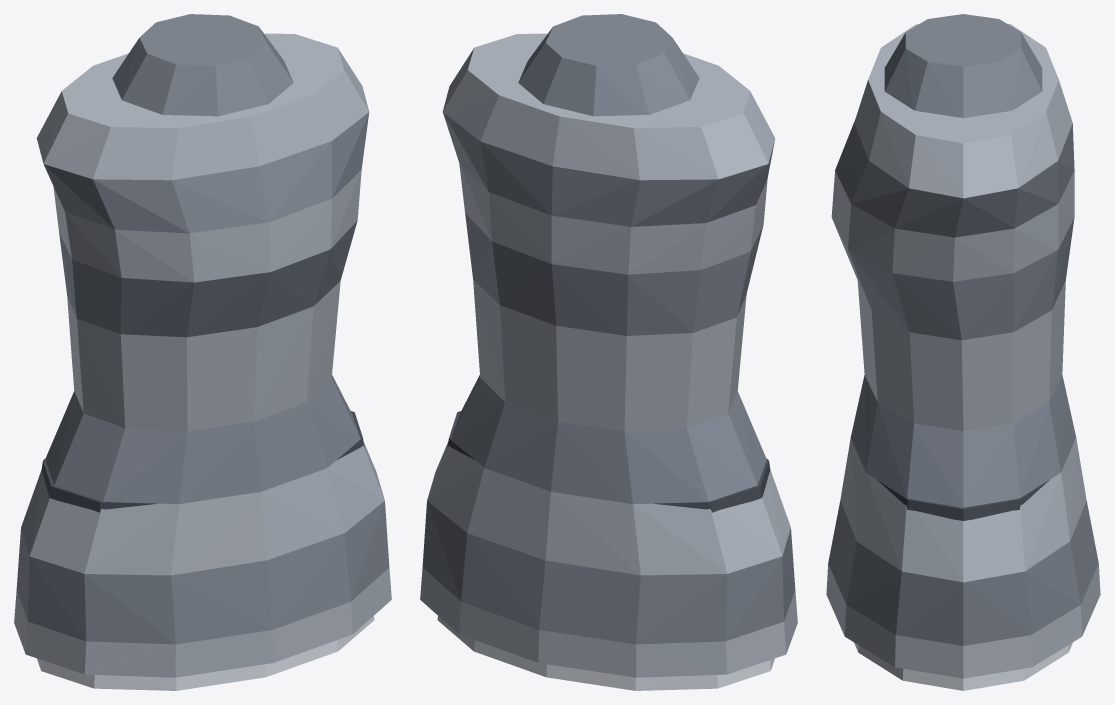
File: gear_steel_chainbody_torso_f.glb
3 views of the same model, side by side, from view 1: azimuth 30°, elevation 25°; view 2: azimuth 150°, elevation 25°; view 3: azimuth 270°, elevation 25° (orthographic). The views are drawn at different scales.
Visible parts, largest first — view 1: gear_steel_chainbody_torso_f; view 2: gear_steel_chainbody_torso_f; view 3: gear_steel_chainbody_torso_f.
Part boxes in pixels (bbox=[...]): gear_steel_chainbody_torso_f: bbox=[14, 14, 391, 690]; gear_steel_chainbody_torso_f: bbox=[420, 14, 797, 690]; gear_steel_chainbody_torso_f: bbox=[826, 14, 1100, 690].
Size of the model in its own units: 0.458 by 0.73 by 0.316.
